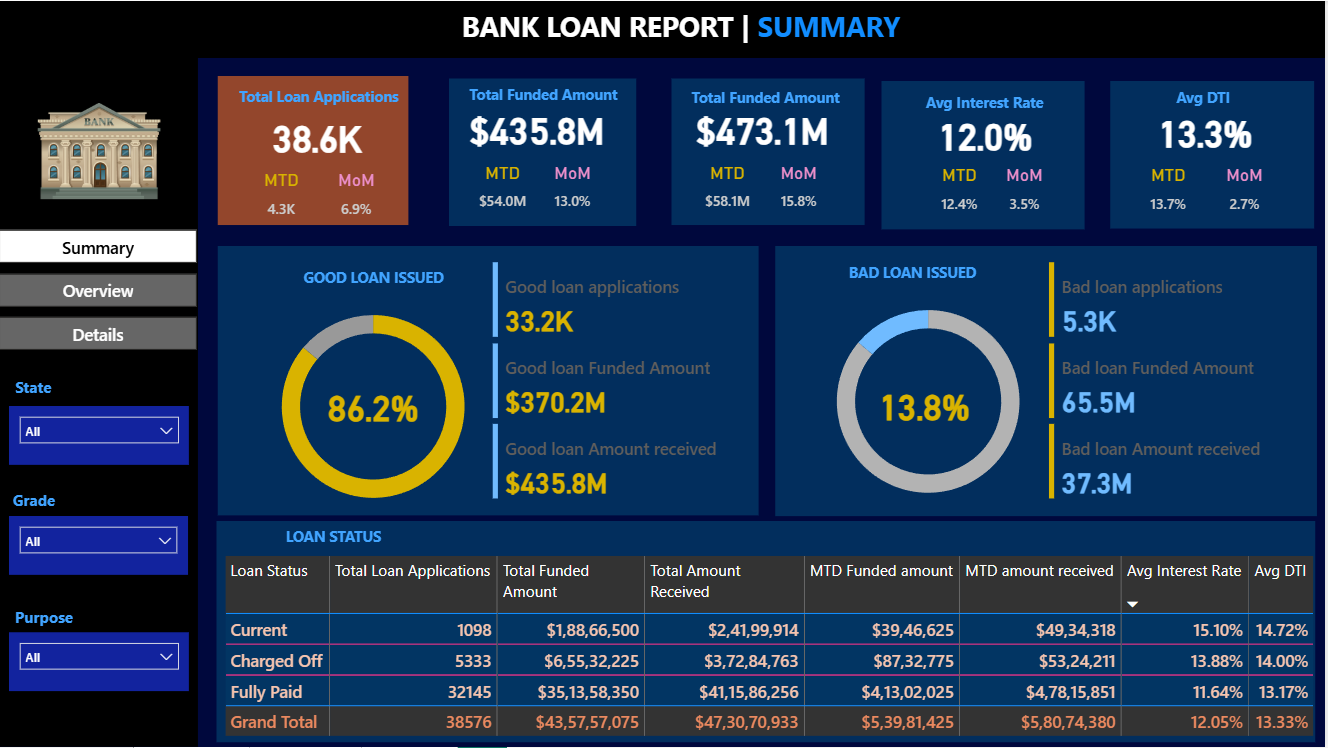

This screenshot's page, from the dashboard's own definition file:
{"tool":"powerbi","page":{"name":"Summary","canvas":[1280,720],"ordinal":0},"visuals":[{"type":"shape","box":[211.1,72.7,184.1,143.8],"z":0,"group":"g1"},{"type":"shape","box":[649.3,74.5,186.5,141.4],"z":0,"group":"g3"},{"type":"shape","box":[434.7,74.8,180.7,142.4],"z":0,"group":"g2"},{"type":"shape","box":[851.7,77.2,196.3,143.6],"z":0,"group":"g4"},{"type":"shape","box":[1072.2,77.2,197,142.7],"z":0,"group":"g5"},{"type":"shape","box":[209.9,501.9,1060.5,213.5],"z":0},{"type":"shape","box":[0,0,1280.3,55],"z":1000},{"type":"card","fields":{"Values":["date table.Total Amount Received"]},"box":[643.8,90.2,185.2,64.6],"z":1000,"group":"g3"},{"type":"card","fields":{"Values":["financial_loan.Total Funded Amount"]},"box":[429.4,90.6,179.4,65.1],"z":1000,"group":"g2"},{"type":"card","fields":{"Values":["date table.Avg DTI"]},"box":[1066.4,93.1,195.6,65.3],"z":1000,"group":"g5"},{"type":"card","fields":{"Values":["date table.Avg Interest Rate"]},"box":[867.7,96.2,168.9,65.1],"z":1000,"group":"g4"},{"type":"card","fields":{"Values":["financial_loan.Total Loan Applications"]},"box":[211.2,97.4,192.3,65.1],"z":1000,"group":"g1"},{"type":"shape","box":[0,54.9,192.1,665.5],"z":2000},{"type":"textbox","box":[421,75.8,208.7,39.4],"z":2000,"group":"g2"},{"type":"textbox","box":[196.2,77.1,223.7,39.4],"z":2000,"group":"g1"},{"type":"textbox","box":[1048.4,78.2,227.5,39.8],"z":2000,"group":"g5"},{"type":"textbox","box":[631.8,78.3,215.4,38.4],"z":2000,"group":"g3"},{"type":"textbox","box":[853.2,83,196.6,39.8],"z":2000,"group":"g4"},{"type":"card","title":"MTD","fields":{"Values":["date table.MTD amount received"]},"box":[667.5,154.9,69.6,60.6],"z":3000,"group":"g3"},{"type":"card","title":"MTD","fields":{"Values":["date table.MTD Funded amount"]},"box":[452.3,155.7,67.5,61],"z":3000,"group":"g2"},{"type":"card","title":"MTD","fields":{"Values":["date table.MTD Avg Interesr Rate"]},"box":[894.5,158.3,63.7,61.3],"z":3000,"group":"g4"},{"type":"card","title":"MTD","fields":{"Values":["date table.MTD avg dti"]},"box":[1091.4,158.3,73.5,61.2],"z":3000,"group":"g5"},{"type":"card","title":"MTD","fields":{"Values":["financial_loan.MTD Loan Application"]},"box":[235.8,162.6,72.3,61.1],"z":3000,"group":"g1"},{"type":"textbox","box":[8.4,357.1,49.5,30.2],"z":3000},{"type":"card","title":"MoM","fields":{"Values":["date table.MoM Amount Received"]},"box":[737.1,154.9,69.6,60.6],"z":4000,"group":"g3"},{"type":"card","title":"MoM","fields":{"Values":["financial_loan.MoM Funded Amount"]},"box":[519.8,155.7,67.5,61],"z":4000,"group":"g2"},{"type":"card","title":"MoM","fields":{"Values":["date table.MoM Average interest rate"]},"box":[958.2,158.3,63.7,61.3],"z":4000,"group":"g4"},{"type":"card","title":"MoM","fields":{"Values":["date table.MoM Avg dti"]},"box":[1164.9,158.3,73.5,61.2],"z":4000,"group":"g5"},{"type":"card","title":"MoM","fields":{"Values":["financial_loan.MoM Loan Application"]},"box":[308,162.6,72.3,61.1],"z":4000,"group":"g1"},{"type":"shape","box":[749.2,236,522.8,260.7],"z":4000},{"type":"textbox","box":[211.1,501.9,223.2,38.6],"z":5000},{"type":"shape","box":[211.3,236,522,260],"z":6000},{"type":"card","fields":{"Values":["date table.good loan%"]},"box":[293.7,366.4,135.8,48],"z":7000},{"type":"textbox","box":[249.7,252.5,223.7,39.8],"z":8000},{"type":"textbox","box":[441.9,1.4,447.3,52.1],"z":9000},{"type":"donutChart","fields":{"Category":["financial_loan.Good vs Bad Loan"],"Y":["financial_loan.Total Loan Applications"]},"box":[772.1,271.4,249.7,230.4],"z":10000},{"type":"group","id":"g1","title":"Group 1","box":[196.2,72.7,223.7,150.9],"z":11000},{"type":"group","id":"g2","title":"Group 1","box":[421,74.8,208.7,142.4],"z":12000},{"type":"group","id":"g3","title":"Group 1","box":[631.8,74.5,215.4,141.4],"z":13000},{"type":"group","id":"g4","title":"Group 1","box":[851.7,77.2,198.2,143.6],"z":14000},{"type":"group","id":"g5","title":"Group 1","box":[1048.4,77.2,228,142.4],"z":15000},{"type":"donutChart","fields":{"Category":["financial_loan.Good vs Bad Loan"],"Y":["financial_loan.Total Loan Applications"]},"box":[236,275.8,249.7,230.5],"z":16000},{"type":"cardVisual","fields":{"Data":["date table.Good loan applications","date table.Good loan Funded Amount","date table.Good loan Amount received"]},"box":[472,247,259.3,238.8],"z":18000},{"type":"textbox","box":[769.8,247,223.7,39.8],"z":19000},{"type":"card","fields":{"Values":["date table.bad loan%"]},"box":[824.7,365,135.8,48],"z":20000},{"type":"cardVisual","fields":{"Data":["date table.Bad loan applications","date table.Bad loan Funded Amount","date table.Bad loan Amount received"]},"box":[1008.6,247,259.3,238.8],"z":21000},{"type":"tableEx","fields":{"Values":["financial_loan.loan_status","financial_loan.Total Loan Applications","financial_loan.Total Funded Amount","date table.Total Amount Received","date table.MTD Funded amount","date table.MTD amount received","date table.Avg Interest Rate","date table.Avg DTI"]},"box":[212.3,530.8,1067.7,184.6],"z":22000},{"type":"slicer","fields":{"Values":["financial_loan.address_state"]},"box":[9.7,390.9,173.7,56.7],"z":23000},{"type":"slicer","fields":{"Values":["financial_loan.grade"]},"box":[9.7,497.1,172.5,56.7],"z":24000},{"type":"textbox","box":[0,466.9,67.6,30.2],"z":25000},{"type":"slicer","fields":{"Values":["financial_loan.purpose"]},"box":[9.7,609.3,173.7,56.7],"z":26000},{"type":"textbox","box":[9.7,579.1,67.6,30.2],"z":27000},{"type":"image","box":[32.6,90.5,127.9,108.6],"z":28000},{"type":"pageNavigator","box":[0,220.8,191.8,117],"z":29000}]}

Visuals, with their boxes in screenshot pixels (x1, y1, x2, y2), scaled from the page's 1280x720 canvas onto the 1328x748 screenshot:
shape: <bbox>219, 76, 410, 225</bbox>
shape: <bbox>674, 77, 867, 224</bbox>
shape: <bbox>451, 78, 638, 226</bbox>
shape: <bbox>884, 80, 1087, 229</bbox>
shape: <bbox>1112, 80, 1317, 228</bbox>
shape: <bbox>218, 521, 1318, 743</bbox>
shape: <bbox>0, 0, 1327, 57</bbox>
card - date table.Total Amount Received: <bbox>668, 94, 860, 161</bbox>
card - financial_loan.Total Funded Amount: <bbox>446, 94, 632, 162</bbox>
card - date table.Avg DTI: <bbox>1106, 97, 1309, 165</bbox>
card - date table.Avg Interest Rate: <bbox>900, 100, 1075, 168</bbox>
card - financial_loan.Total Loan Applications: <bbox>219, 101, 419, 169</bbox>
shape: <bbox>0, 57, 199, 747</bbox>
textbox: <bbox>437, 79, 653, 120</bbox>
textbox: <bbox>204, 80, 436, 121</bbox>
textbox: <bbox>1088, 81, 1324, 123</bbox>
textbox: <bbox>655, 81, 879, 121</bbox>
textbox: <bbox>885, 86, 1089, 128</bbox>
"MTD" card: <bbox>693, 161, 765, 224</bbox>
"MTD" card: <bbox>469, 162, 539, 225</bbox>
"MTD" card: <bbox>928, 164, 994, 228</bbox>
"MTD" card: <bbox>1132, 164, 1209, 228</bbox>
"MTD" card: <bbox>245, 169, 320, 232</bbox>
textbox: <bbox>9, 371, 60, 402</bbox>
"MoM" card: <bbox>765, 161, 837, 224</bbox>
"MoM" card: <bbox>539, 162, 609, 225</bbox>
"MoM" card: <bbox>994, 164, 1060, 228</bbox>
"MoM" card: <bbox>1209, 164, 1285, 228</bbox>
"MoM" card: <bbox>320, 169, 395, 232</bbox>
shape: <bbox>777, 245, 1320, 516</bbox>
textbox: <bbox>219, 521, 451, 562</bbox>
shape: <bbox>219, 245, 761, 515</bbox>
card - date table.good loan%: <bbox>305, 381, 446, 431</bbox>
textbox: <bbox>259, 262, 491, 304</bbox>
textbox: <bbox>458, 1, 923, 56</bbox>
donutChart - financial_loan.Good vs Bad Loan x financial_loan.Total Loan Applications: <bbox>801, 282, 1060, 521</bbox>
"Group 1" group: <bbox>204, 76, 436, 232</bbox>
"Group 1" group: <bbox>437, 78, 653, 226</bbox>
"Group 1" group: <bbox>655, 77, 879, 224</bbox>
"Group 1" group: <bbox>884, 80, 1089, 229</bbox>
"Group 1" group: <bbox>1088, 80, 1324, 228</bbox>
donutChart - financial_loan.Good vs Bad Loan x financial_loan.Total Loan Applications: <bbox>245, 287, 504, 526</bbox>
cardVisual - date table.Good loan applications x date table.Good loan Funded Amount: <bbox>490, 257, 759, 505</bbox>
textbox: <bbox>799, 257, 1031, 298</bbox>
card - date table.bad loan%: <bbox>856, 379, 997, 429</bbox>
cardVisual - date table.Bad loan applications x date table.Bad loan Funded Amount: <bbox>1046, 257, 1315, 505</bbox>
tableEx - financial_loan.loan_status x financial_loan.Total Loan Applications: <bbox>220, 551, 1327, 743</bbox>
slicer - financial_loan.address_state: <bbox>10, 406, 190, 465</bbox>
slicer - financial_loan.grade: <bbox>10, 516, 189, 575</bbox>
textbox: <bbox>0, 485, 70, 516</bbox>
slicer - financial_loan.purpose: <bbox>10, 633, 190, 692</bbox>
textbox: <bbox>10, 602, 80, 633</bbox>
image: <bbox>34, 94, 167, 207</bbox>
pageNavigator: <bbox>0, 229, 199, 351</bbox>
